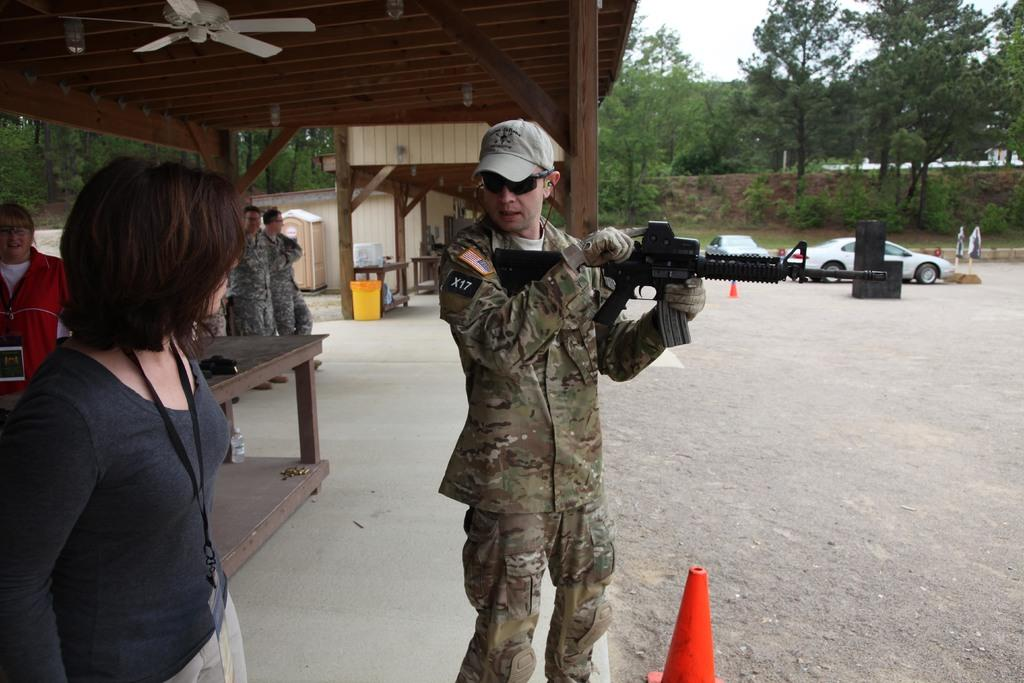Rifle: (554, 214, 897, 354)
